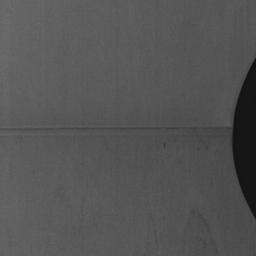Crescent gap: (231, 61, 256, 216)
